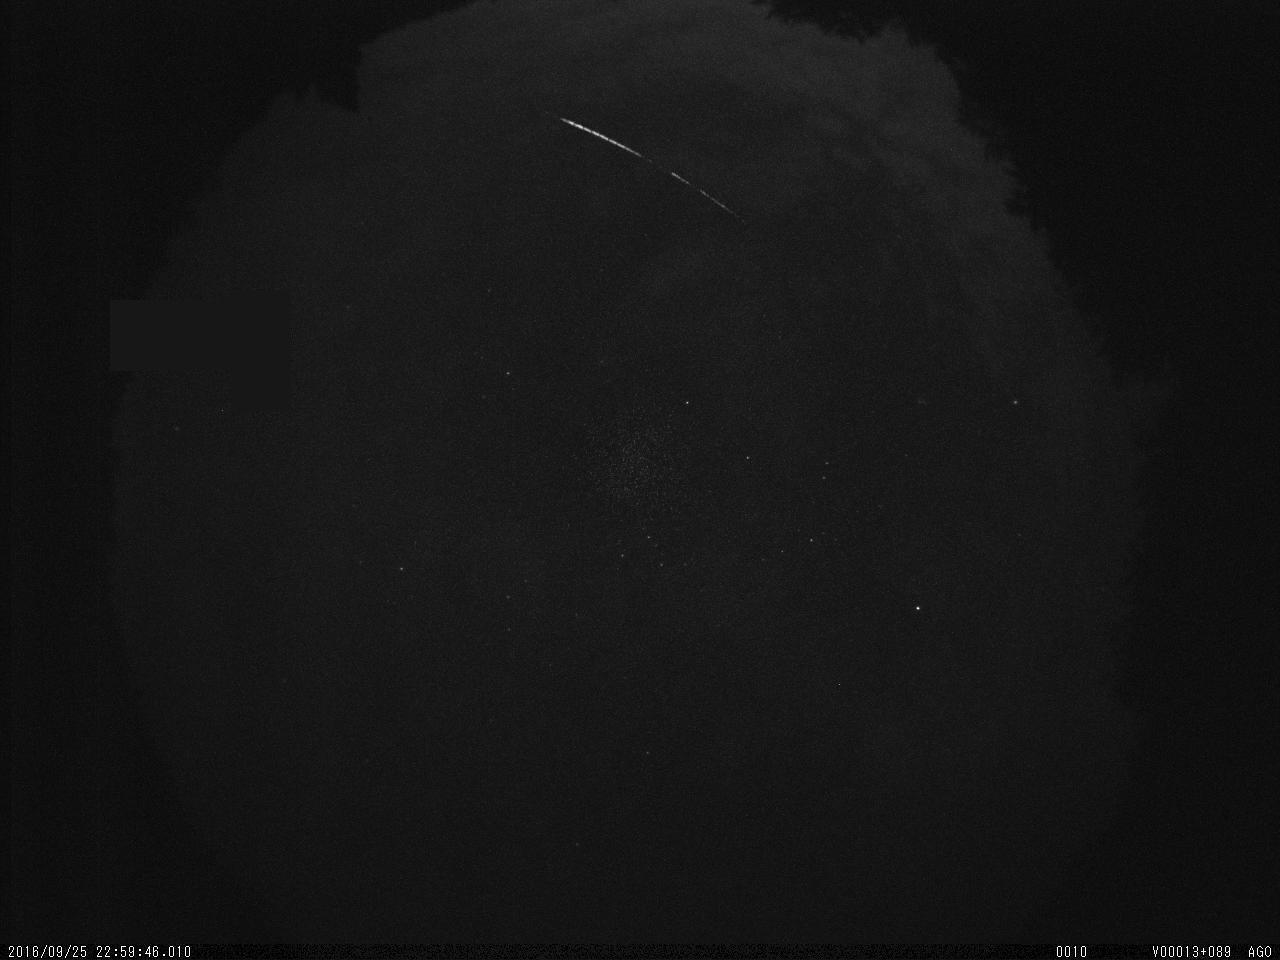Meteor: (555, 112, 745, 225)
